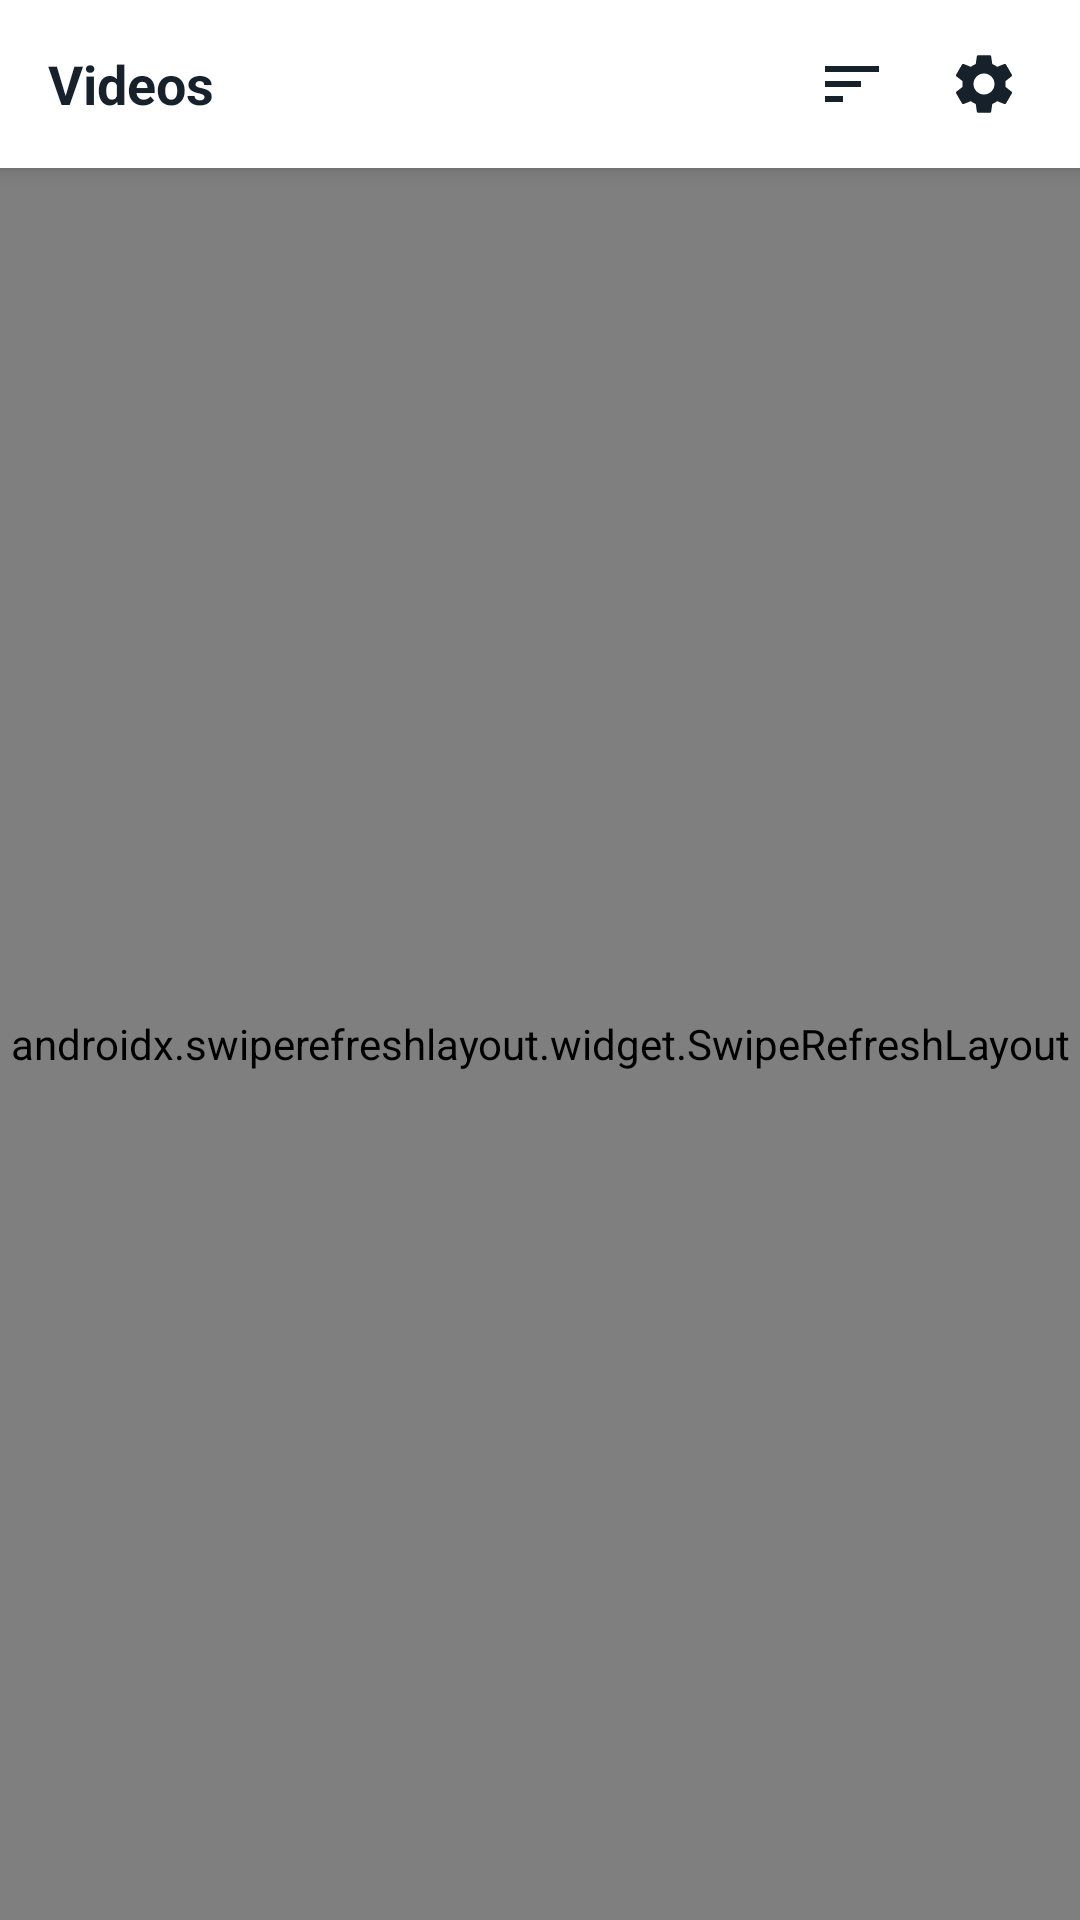

Named icons in this screenshot (1080×1920) and their centers, [x,y]:
Settings: [984,84]
Sort videos: [852,84]
